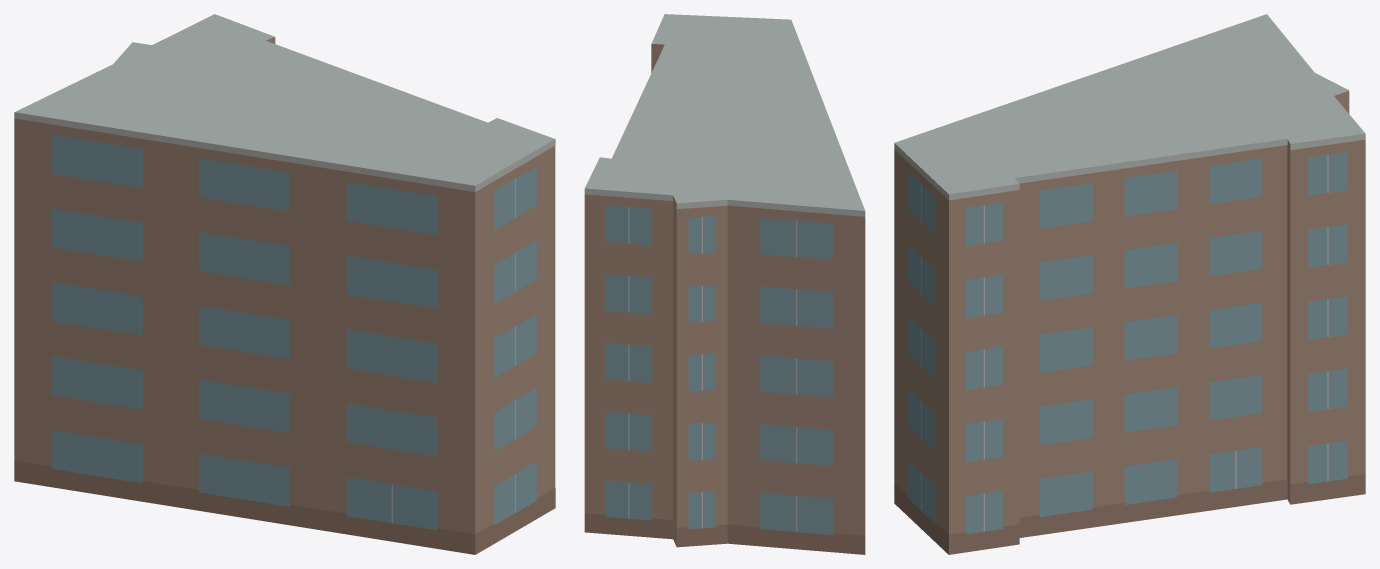
Rendered from survey-upis-32841843.glb.
3 views of the same model, side by side, from view 1: azimuth 30°, elevation 25°; view 2: azimuth 150°, elevation 25°; view 3: azimuth 270°, elevation 25° (orthographic). The views are drawn at different scales.
Parts seen in each view (by area): view 1: survey-upis-32841843.tmp; view 2: survey-upis-32841843.tmp; view 3: survey-upis-32841843.tmp.
Part boxes in pixels (bbox=[...]): survey-upis-32841843.tmp: bbox=[14, 14, 555, 554]; survey-upis-32841843.tmp: bbox=[584, 14, 865, 554]; survey-upis-32841843.tmp: bbox=[894, 14, 1365, 554].
Size of the model in its own units: 15.35 by 14.3 by 16.95.
